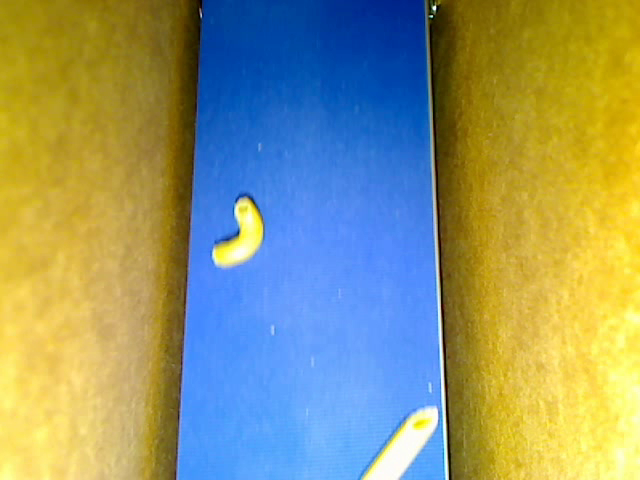elbow: (212, 196, 263, 267)
penne: (361, 406, 439, 479)
